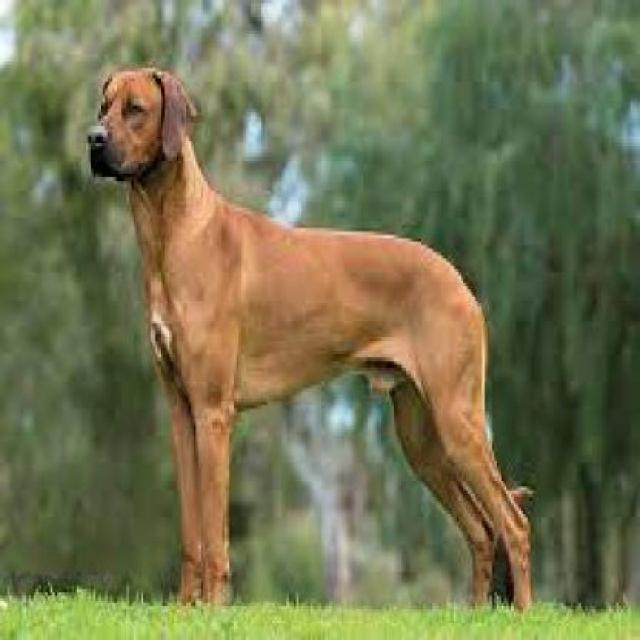animals: (44, 24, 562, 616)
